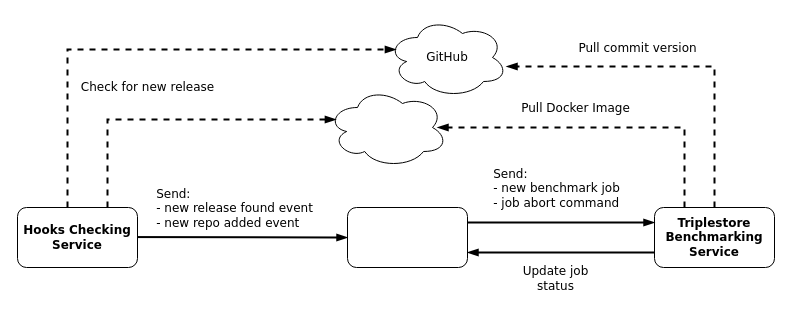
Image size: 792x310. Some labels were removed from this diagram. Each missing label, with the box of its shape:
Docker Hub: (326, 86, 448, 168)
Jobs Managing Service: (346, 206, 468, 268)
